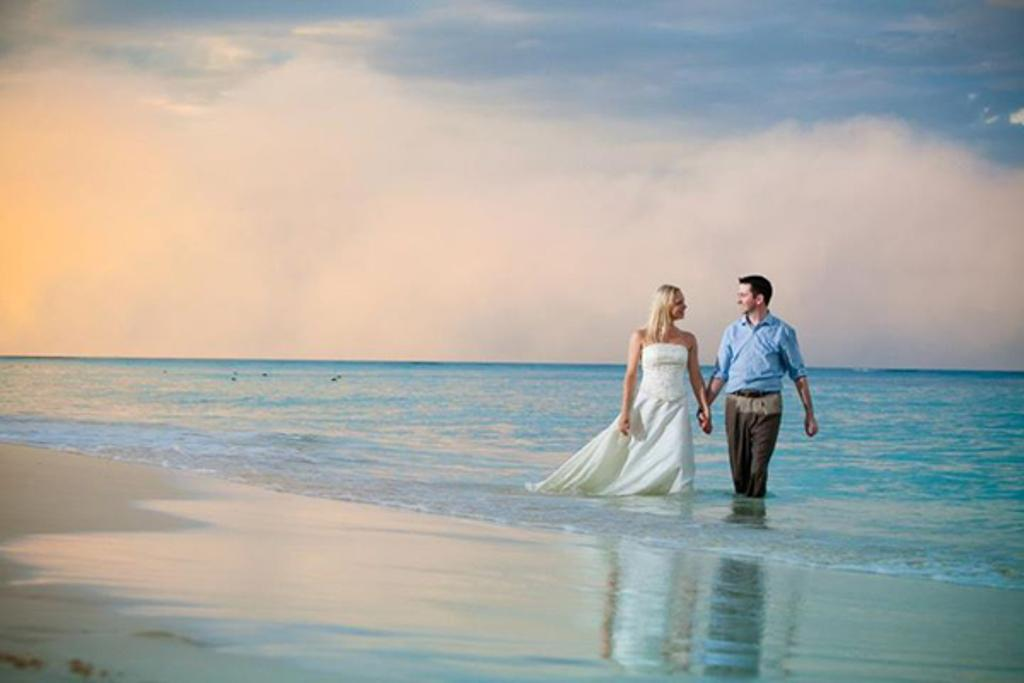face: (736, 283, 755, 314), (668, 290, 687, 318)
